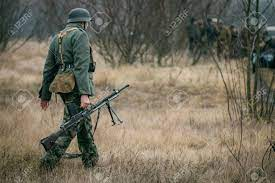gun: (36, 80, 140, 159)
